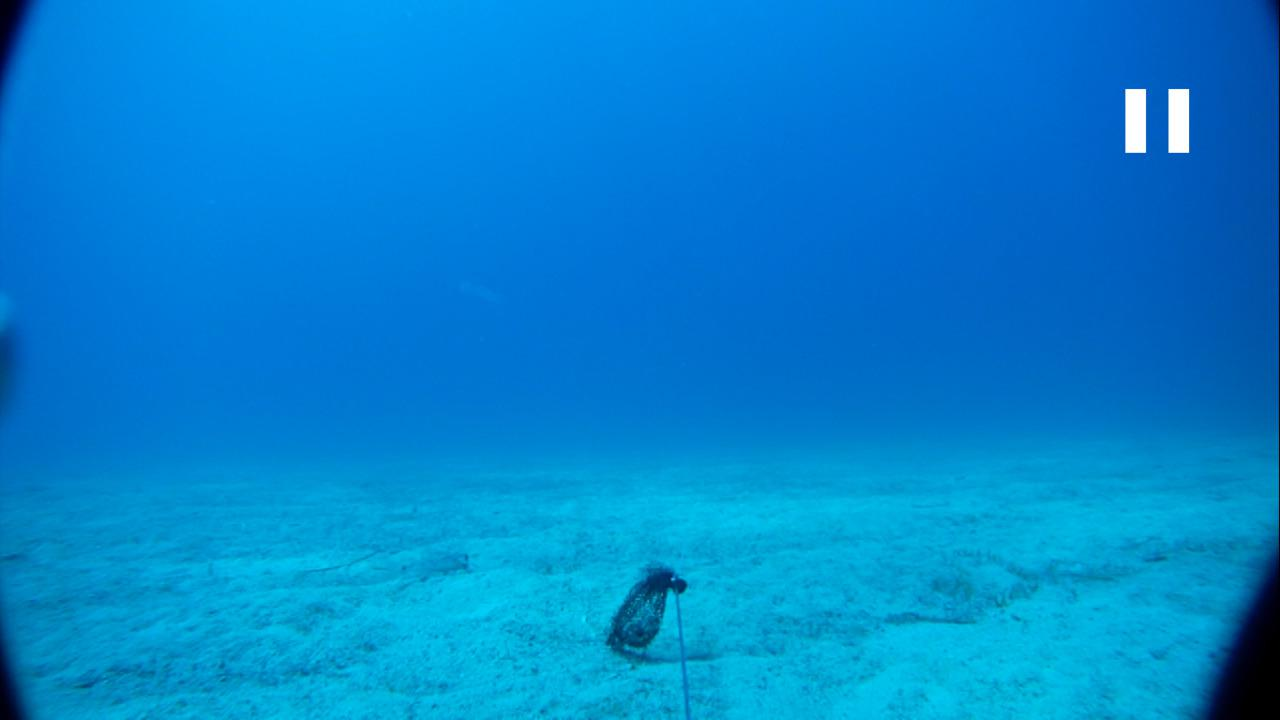dactylopterus: (387, 536, 477, 587)
